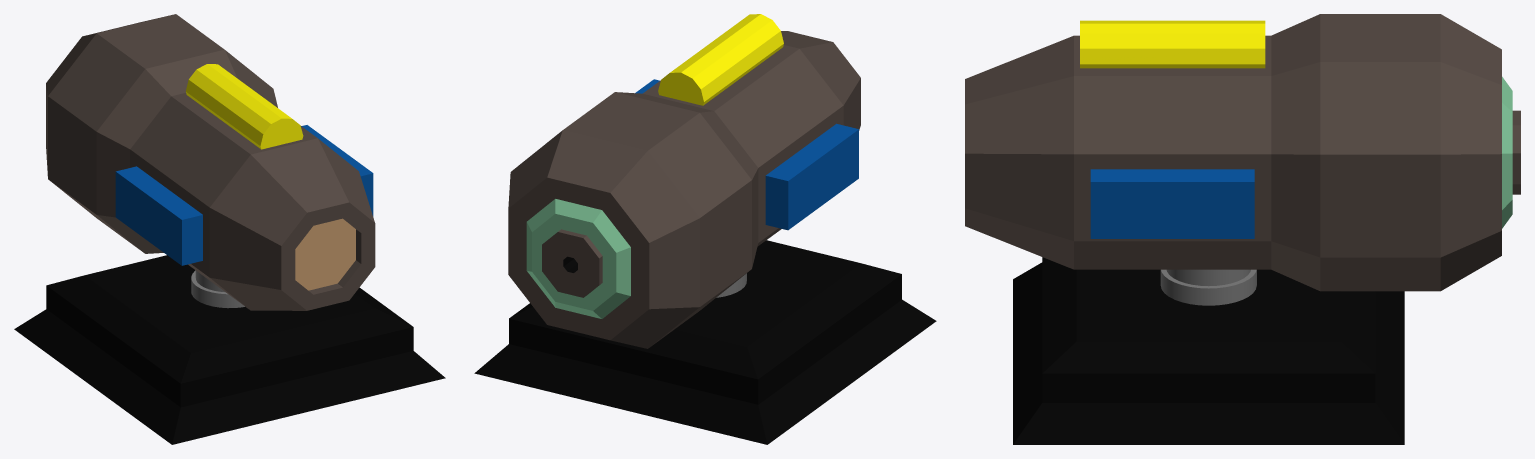
Rendered from turret4_1.fbx.
3 views of the same model, side by side, from view 1: azimuth 30°, elevation 25°; view 2: azimuth 150°, elevation 25°; view 3: azimuth 270°, elevation 25° (orthographic). The views are drawn at different scales.
Visible parts, largest first — view 1: Cube.041, Cube.040, Cylinder.030, Cylinder.029; view 2: Cube.041, Cube.040, Cylinder.030; view 3: Cube.041, Cube.040, Cylinder.030, Cylinder.029.
Part boxes in pixels (x1,y1,x2,y2): Cube.041: [46, 14, 375, 310]; Cube.040: [14, 255, 445, 444]; Cylinder.030: [185, 64, 303, 149]; Cylinder.029: [191, 270, 244, 308]; Cube.041: [508, 31, 860, 348]; Cube.040: [474, 240, 936, 444]; Cylinder.030: [658, 14, 783, 105]; Cube.041: [965, 14, 1520, 291]; Cube.040: [1013, 257, 1404, 444]; Cylinder.030: [1080, 20, 1265, 68]; Cylinder.029: [1160, 269, 1256, 305].
Size of the model in its own units: 423 by 403 by 600.
